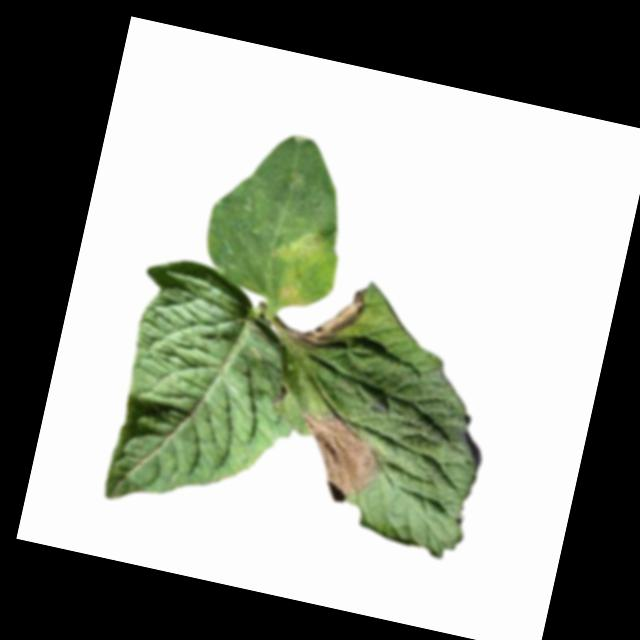Late_blight: (287, 407, 391, 510), (263, 222, 344, 316), (287, 274, 372, 358)
